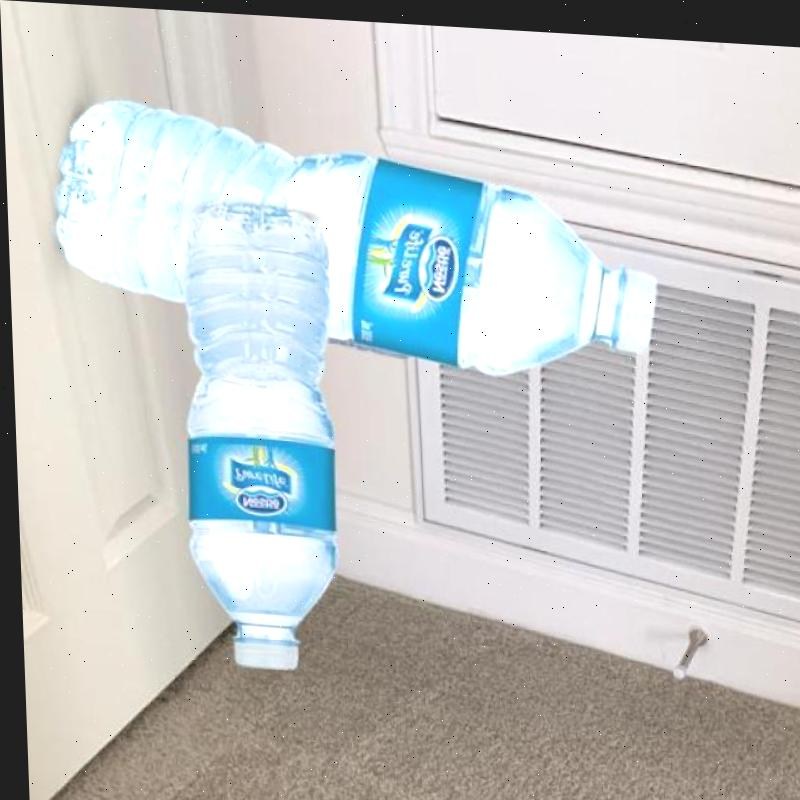botella: (51, 94, 663, 376), (176, 199, 339, 667)
